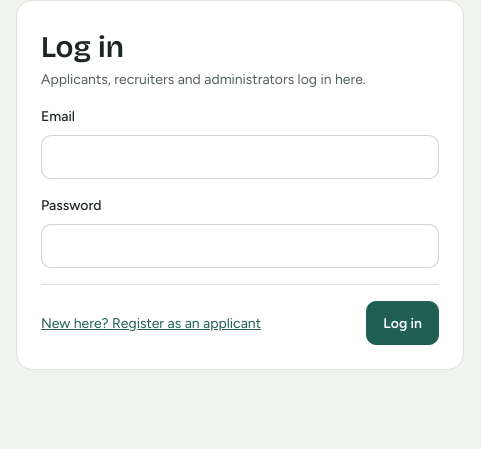
Test: LogInForm › does not show a server error report as the reason
Type "jordan.lee@example.com" into the field labelled "Email" at point(240, 157), box x1=41 y1=135 x2=439 y2=179
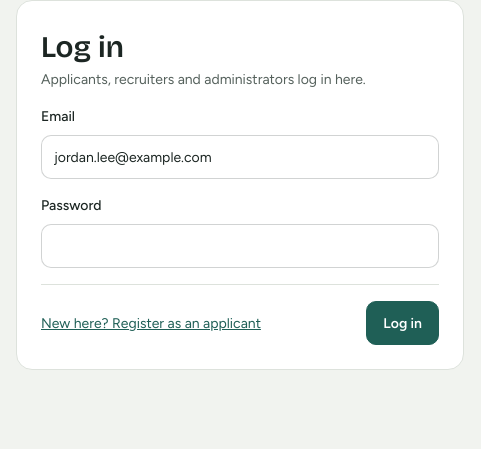
Type "secret-1" into the password field labelled "Password" at point(240, 246), box x1=41 y1=224 x2=439 y2=268
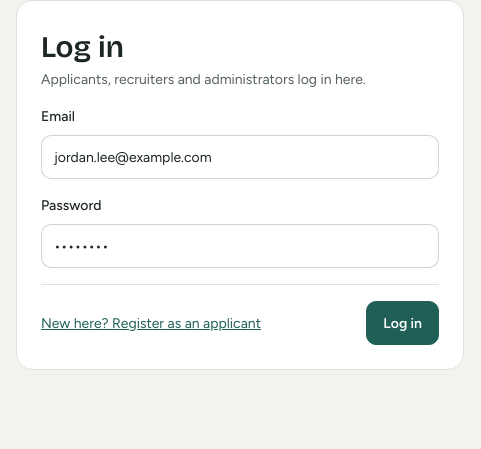
Click the button "Log in" at point(403, 323), box x1=366 y1=301 x2=439 y2=345
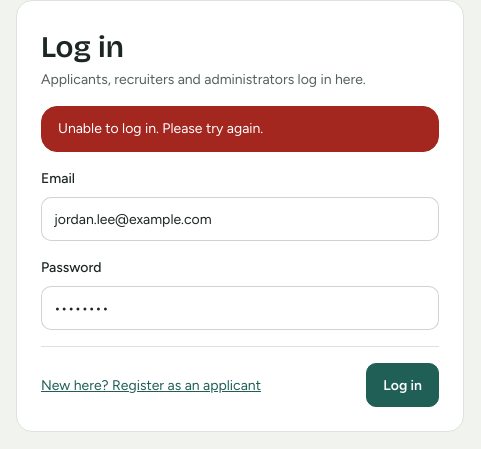
Check: the message reads "Unable to log in. Please try again.", box x1=58 y1=120 x2=263 y2=137
